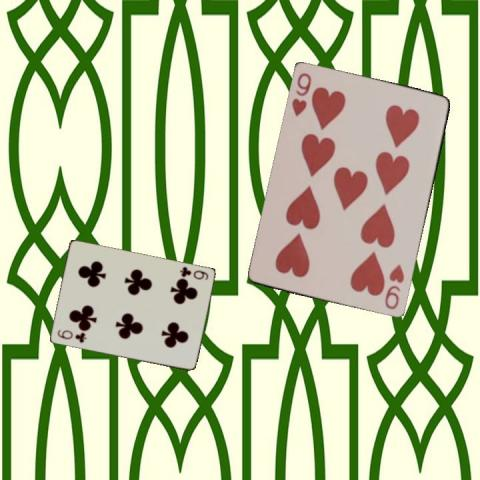6c: (54, 326, 87, 344), (177, 264, 209, 282)
9h: (382, 262, 406, 311), (289, 70, 313, 119)
